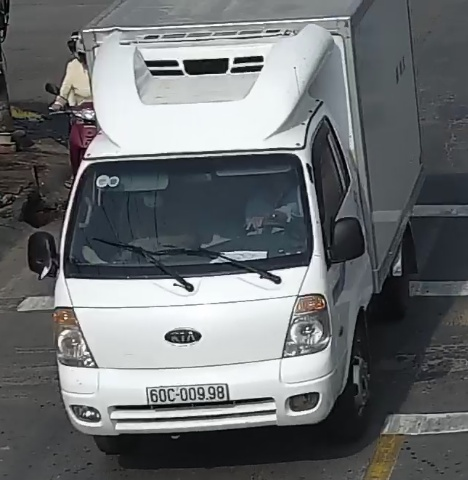vehicle plate: (141, 379, 241, 410)
